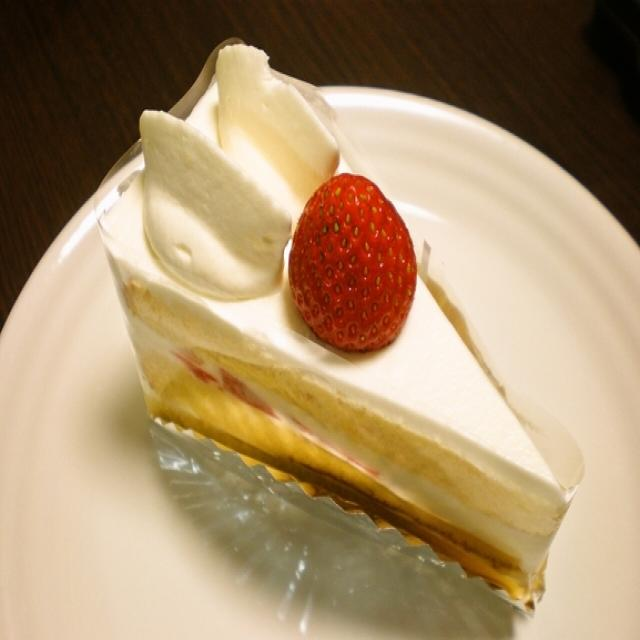蛋糕甜品: (20, 27, 613, 631)
